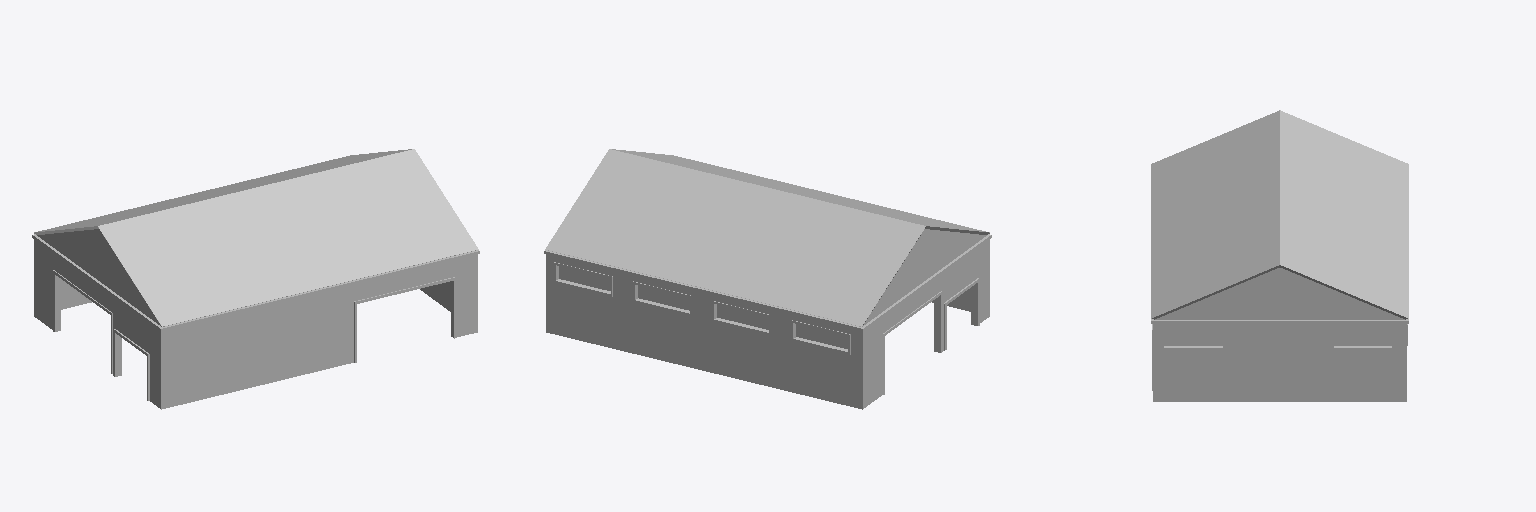
The model's file is Building_3.obj.
3 views of the same model, side by side, from view 1: azimuth 30°, elevation 25°; view 2: azimuth 150°, elevation 25°; view 3: azimuth 270°, elevation 25° (orthographic).
Parts seen in each view (by area): view 1: Building_3; view 2: Building_3; view 3: Building_3.
Part boxes in pixels (x1,y1,x2,y2): Building_3: (32,149,479,409); Building_3: (544,149,991,409); Building_3: (1151,110,1408,401).
Size of the model in its own units: 19.88 by 8.14 by 13.86.